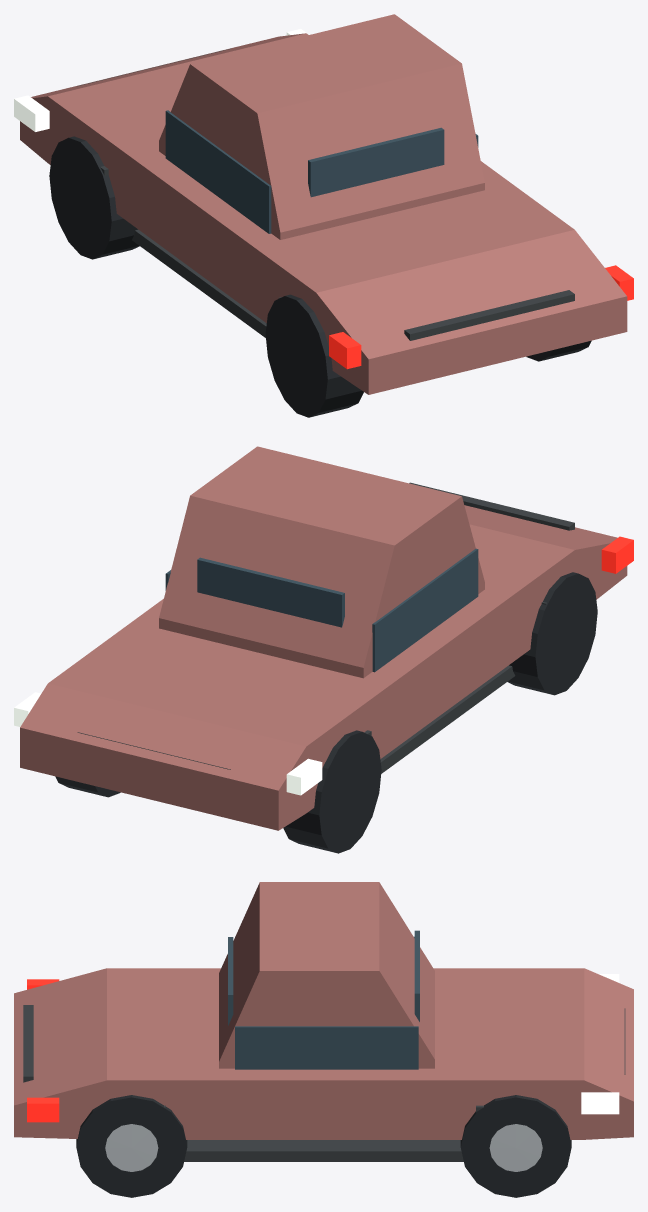
The model's file is mazda-cx-5-premium.glb.
The picture shows the model from 3 angles, top to bottom: view 1: azimuth 30°, elevation 25°; view 2: azimuth 150°, elevation 25°; view 3: azimuth 270°, elevation 25°; orthographic projection. The views are drawn at different scales.
Visible parts, largest first — view 1: mazda-cx-5-premium illustrative model; view 2: mazda-cx-5-premium illustrative model; view 3: mazda-cx-5-premium illustrative model.
Part boxes in pixels (x1,y1,x2,y2): mazda-cx-5-premium illustrative model: (14, 14, 633, 417); mazda-cx-5-premium illustrative model: (14, 446, 633, 853); mazda-cx-5-premium illustrative model: (14, 882, 633, 1197).
Bounding box in the file's own units: 2.02 × 1.61 × 4.25.
